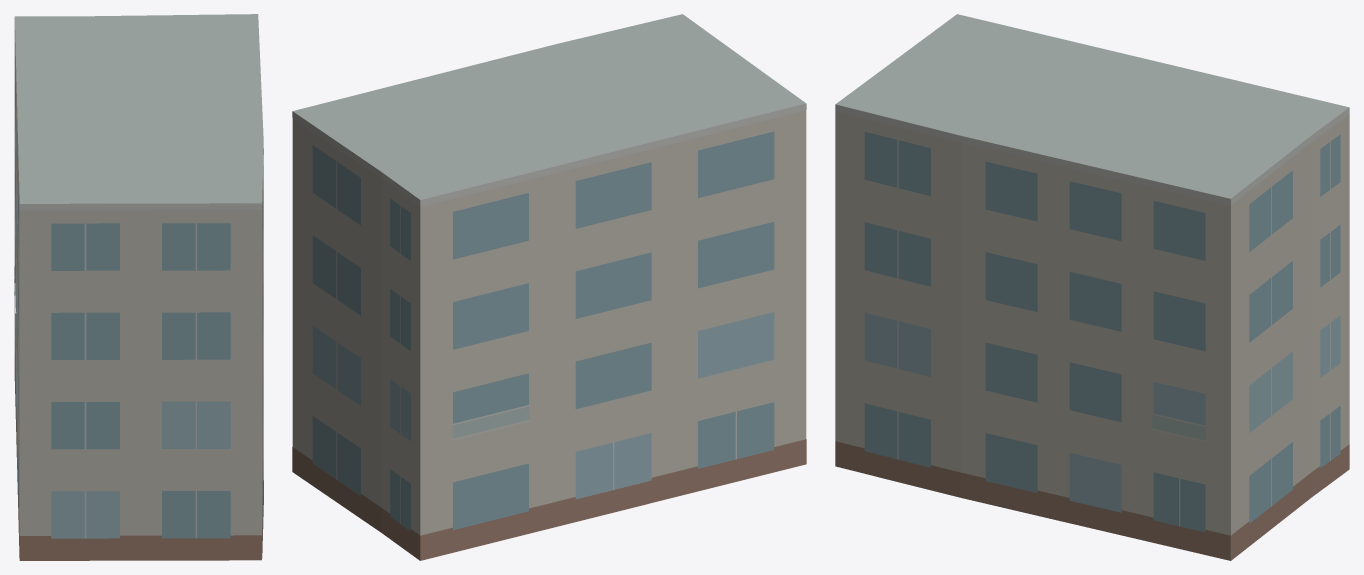
File: survey-upis-32820937.glb
3 renders of one model, left to right at view 1: azimuth 30°, elevation 25°; view 2: azimuth 150°, elevation 25°; view 3: azimuth 270°, elevation 25°, orthographic.
Visible parts, largest first — view 1: survey-upis-32820937.tmp; view 2: survey-upis-32820937.tmp; view 3: survey-upis-32820937.tmp.
Boxes of the visible parts, x1,y1,x2,y2 form: survey-upis-32820937.tmp: (14,14,263,560); survey-upis-32820937.tmp: (292,14,806,560); survey-upis-32820937.tmp: (835,14,1349,560).
Bounding box in the file's own units: 14.52 × 13.25 × 17.06.
